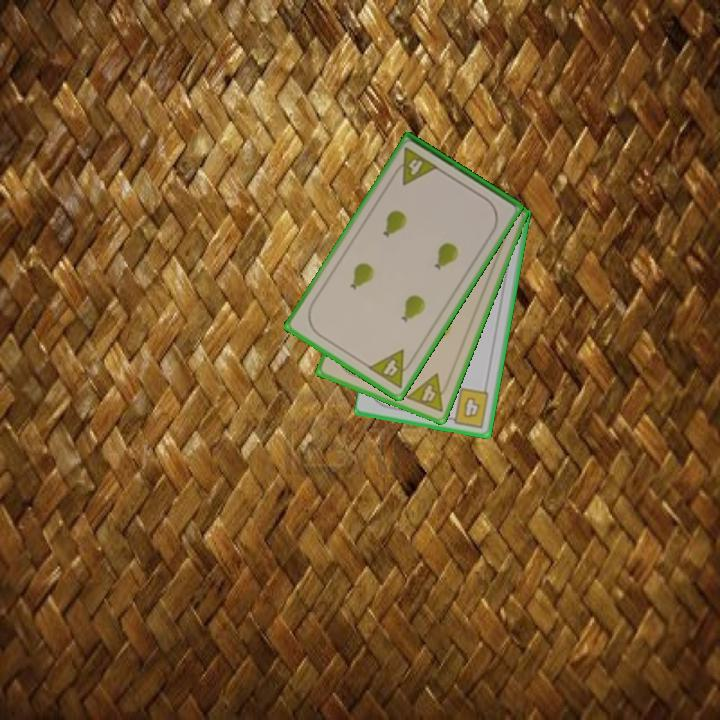4b: (444, 384, 492, 431)
4p: (364, 346, 418, 392), (403, 370, 454, 415), (389, 144, 441, 188)
